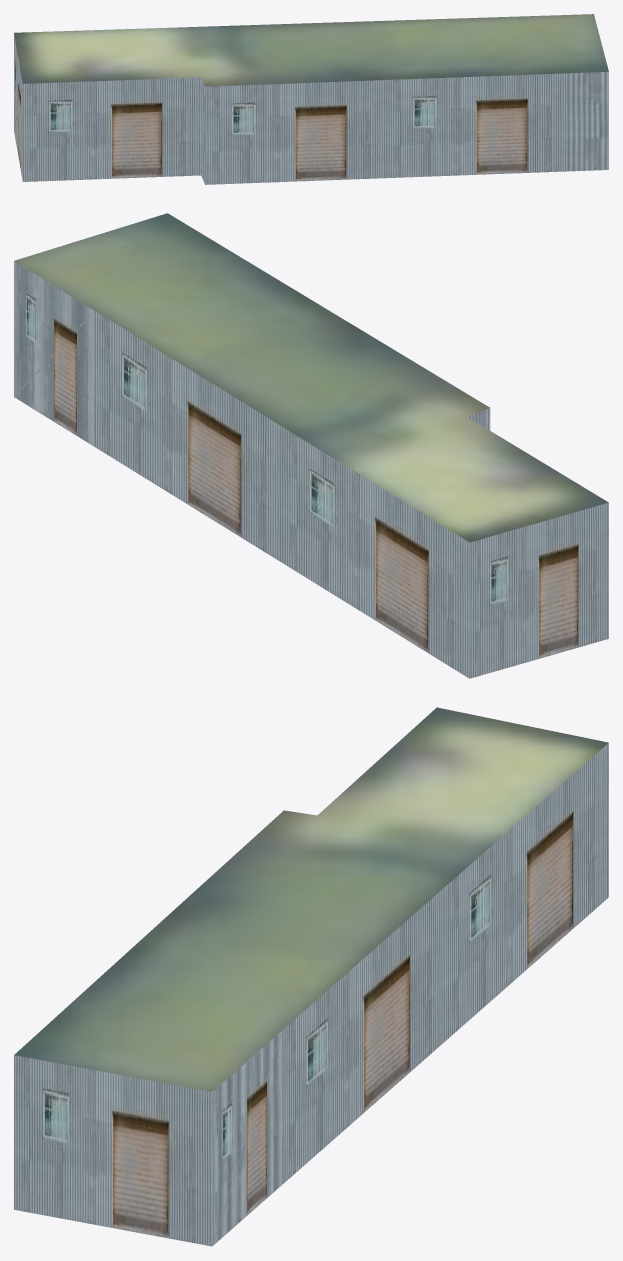
File: T_1T93F4PMCH.dae
3 views of the same model, one above another, from view 1: azimuth 30°, elevation 25°; view 2: azimuth 150°, elevation 25°; view 3: azimuth 270°, elevation 25° (orthographic). The views are drawn at different scales.
Visible parts, largest first — view 1: SketchUp (×2); view 2: SketchUp (×2); view 3: SketchUp (×2).
Boxes of the visible parts, box(x1,y1,x2,y2) form: SketchUp (×2): box(14, 14, 608, 184); SketchUp (×2): box(14, 213, 608, 678); SketchUp (×2): box(14, 707, 608, 1246).
Size of what is drawn, in the model's own units: 693 by 453 by 130.
2 materials, 2 textured.
